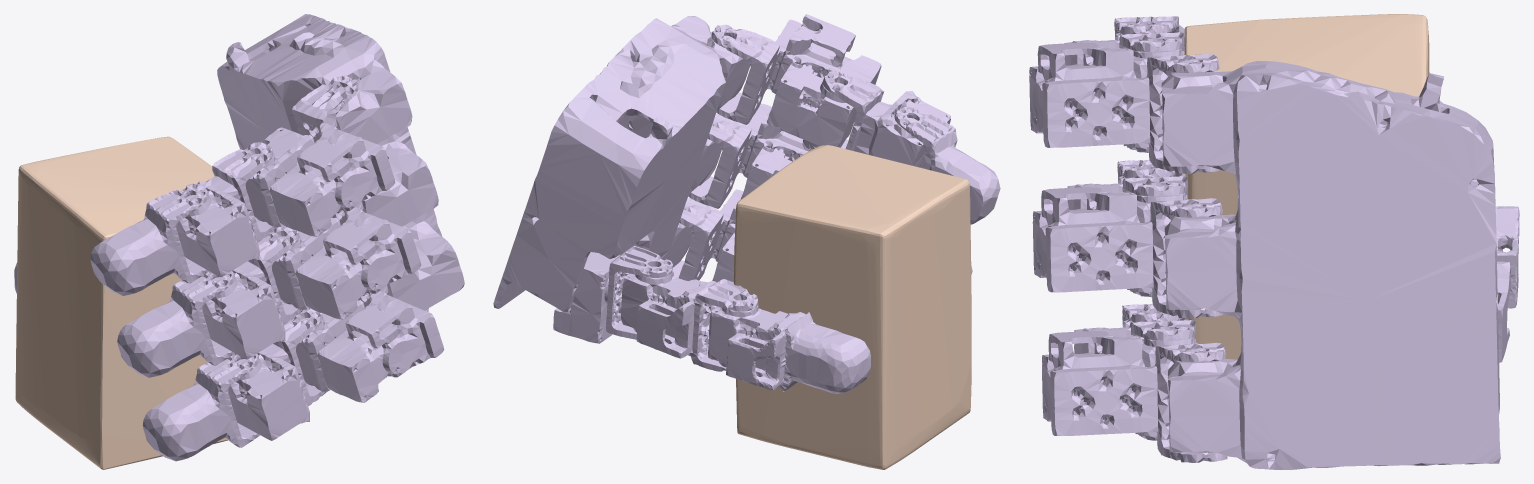
Rendered from 12e07c69b134f5-closed.glb.
3 renders of one model, left to right at view 1: azimuth 30°, elevation 25°; view 2: azimuth 150°, elevation 25°; view 3: azimuth 270°, elevation 25°, orthographic. The views are drawn at different scales.
Parts seen in each view (by area): view 1: LEAP_hand, world; view 2: LEAP_hand, world; view 3: LEAP_hand, world.
Boxes of the visible parts, x1,y1,x2,y2 form: LEAP_hand: [14, 14, 464, 461]; world: [15, 136, 227, 469]; LEAP_hand: [493, 14, 1000, 394]; world: [734, 145, 971, 469]; LEAP_hand: [1029, 16, 1519, 469]; world: [1184, 14, 1429, 359].
Bounding box in the file's own units: 0.1928 × 0.1643 × 0.1527.
